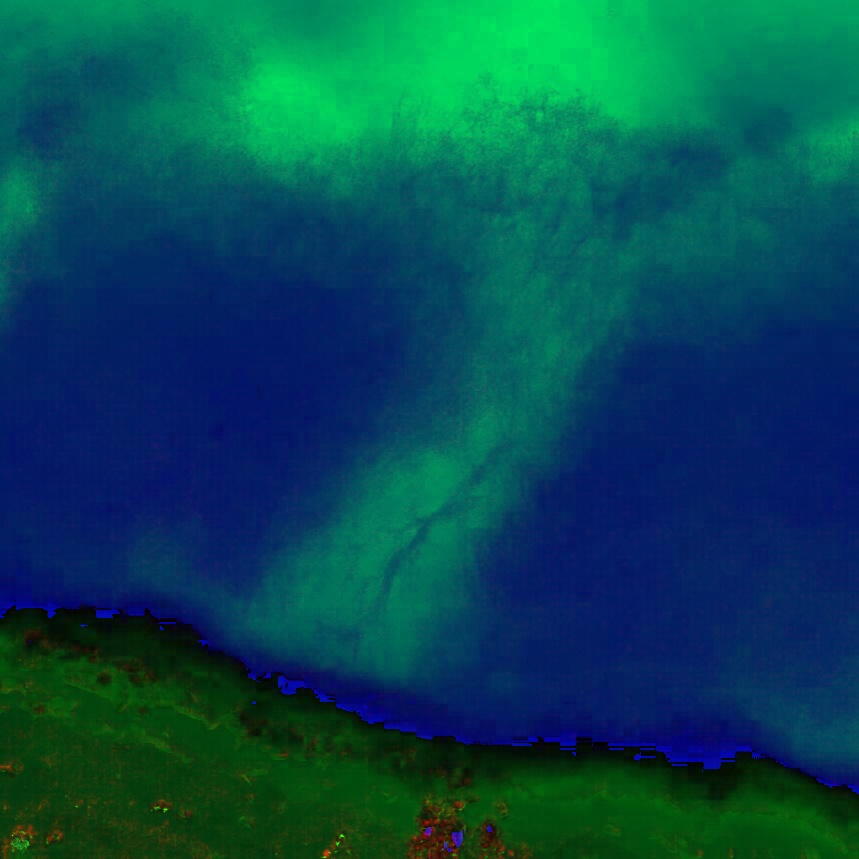rip_current: (241, 155, 703, 717)
